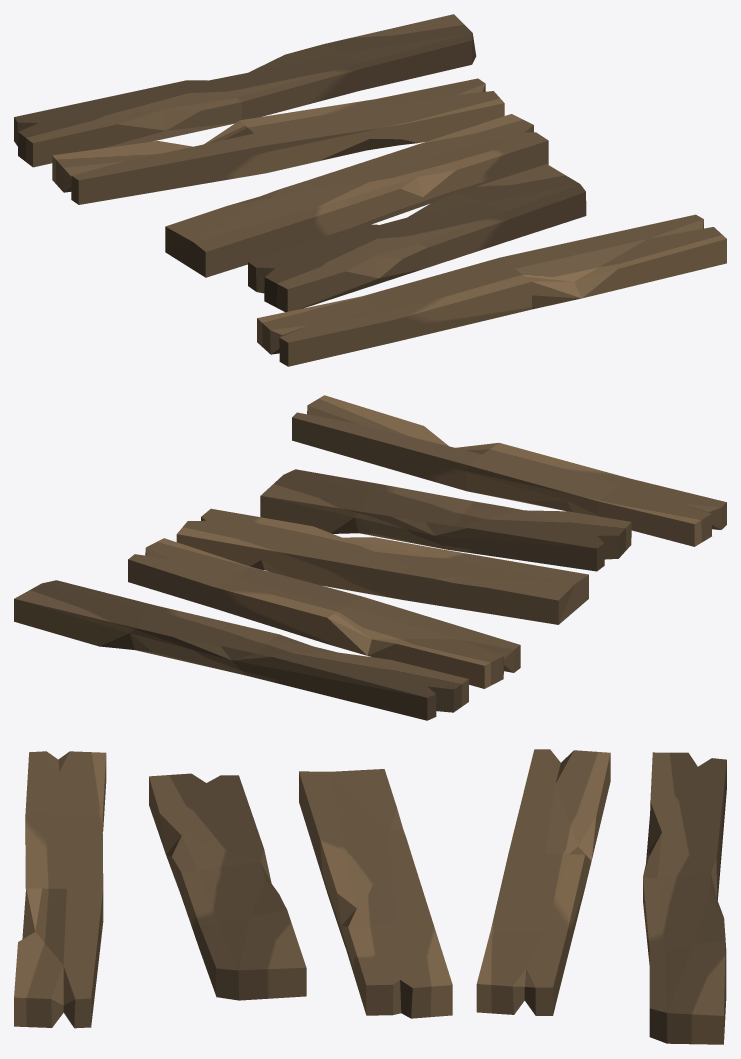
Rendered from SM_Env_Road_Planks_02.fbx.
3 views of the same model, one above another, from view 1: azimuth 30°, elevation 25°; view 2: azimuth 150°, elevation 25°; view 3: azimuth 270°, elevation 25° (orthographic). The views are drawn at different scales.
Visible parts, largest first — view 1: SM_Env_Road_Planks_02; view 2: SM_Env_Road_Planks_02; view 3: SM_Env_Road_Planks_02.
Part boxes in pixels (bbox=[...]): SM_Env_Road_Planks_02: bbox=[14, 14, 726, 366]; SM_Env_Road_Planks_02: bbox=[14, 395, 726, 720]; SM_Env_Road_Planks_02: bbox=[14, 749, 726, 1044].
Size of the model in its own units: 180 by 12.39 by 204.
